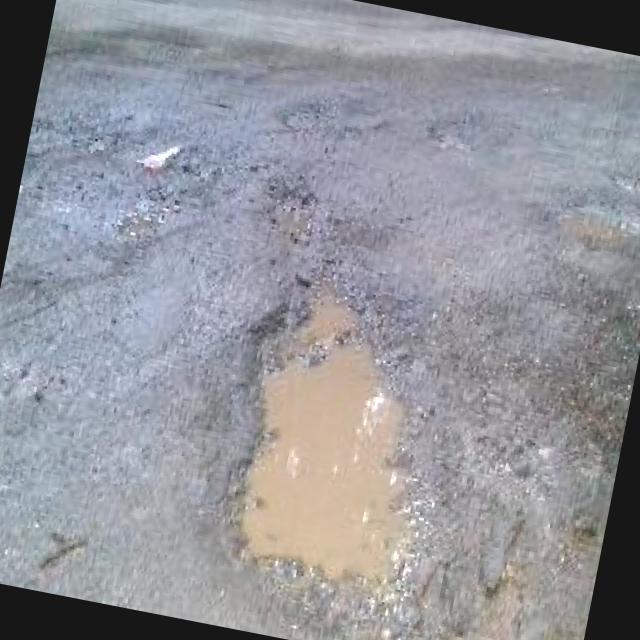waterlogging: (183, 245, 447, 640)
